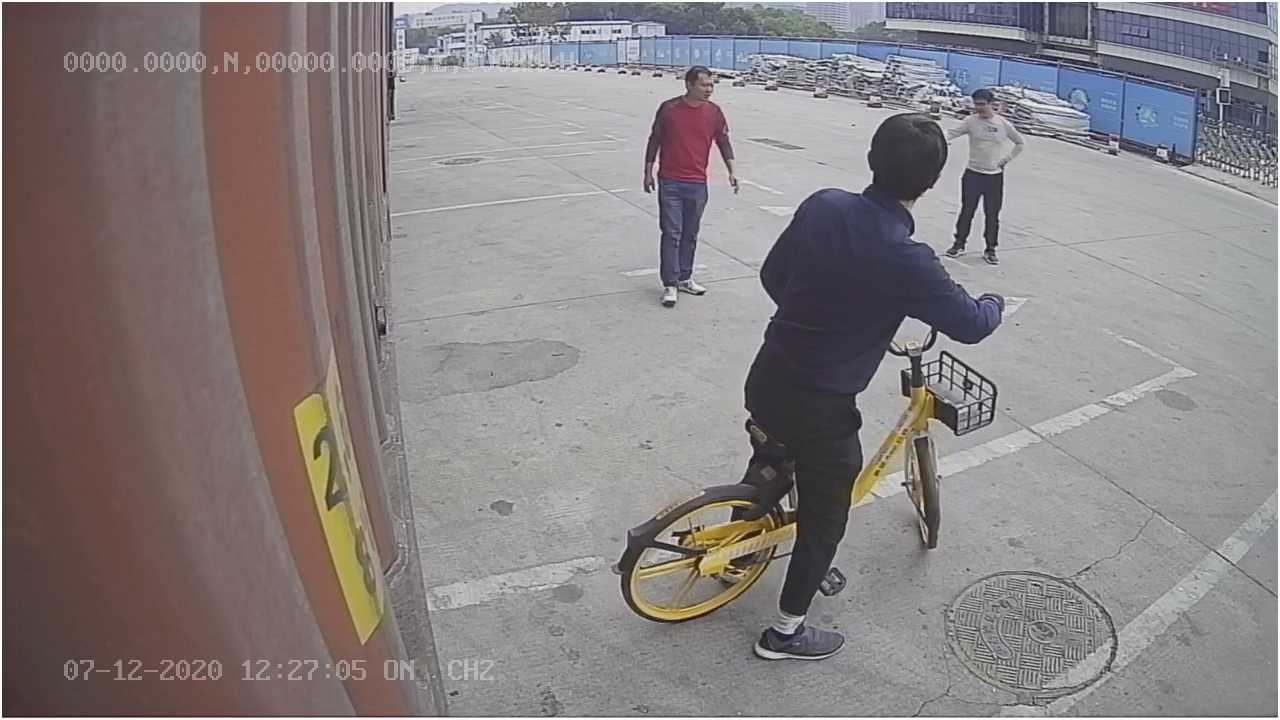person: (635, 60, 748, 310)
